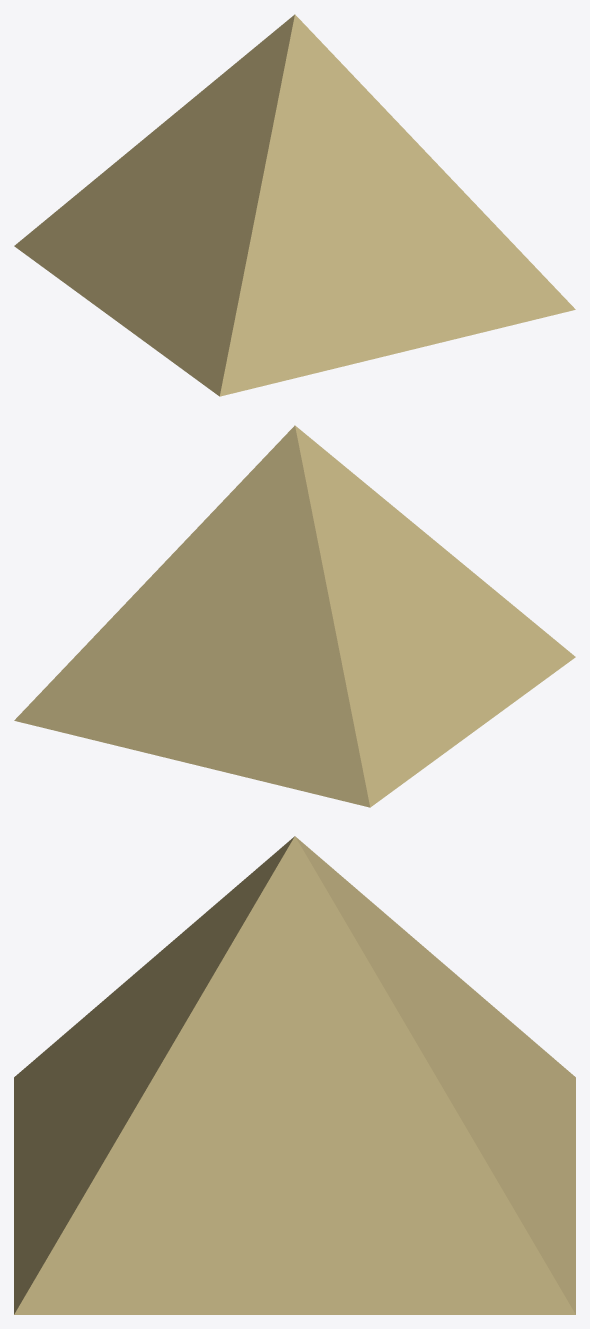
Rendered from Piramide_3.fbx.
The picture shows the model from 3 angles, top to bottom: view 1: azimuth 30°, elevation 25°; view 2: azimuth 150°, elevation 25°; view 3: azimuth 270°, elevation 25°; orthographic projection. The views are drawn at different scales.
Visible parts, largest first — view 1: Cone; view 2: Cone; view 3: Cone.
Boxes of the visible parts, x1,y1,x2,y2 form: Cone: (14, 14, 575, 396); Cone: (14, 425, 575, 807); Cone: (14, 836, 575, 1314).
Size of the model in its own units: 11314 by 8000 by 11314.
Materials: 1 (1 with a texture image).
